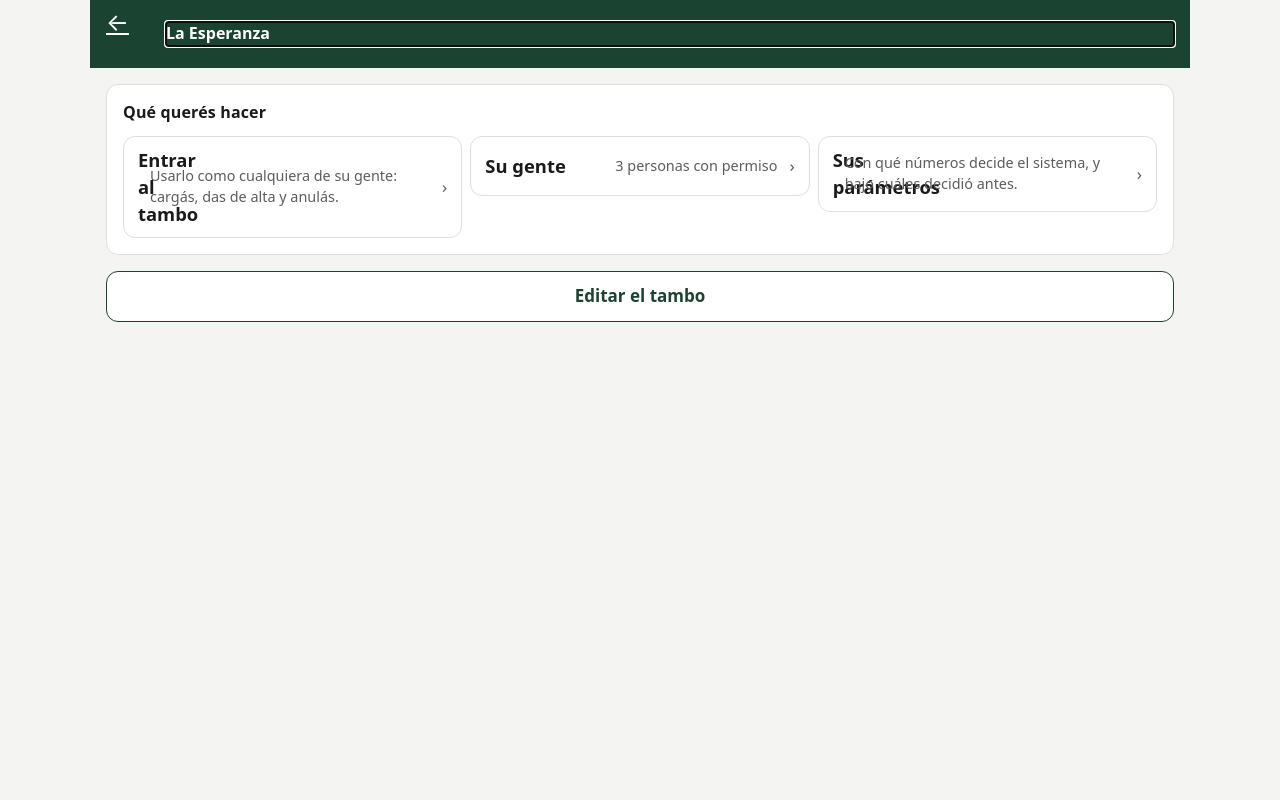
Test: el admin, que no tiene permisos y puede todo › ve las puertas de carga aunque su lista de permisos venga vacía
The image size is (1280, 800).
Step 1. Click the button named "Entrar al tambo" → {"x": 293, "y": 187}, box [123,136,462,238]
(page scrolled)
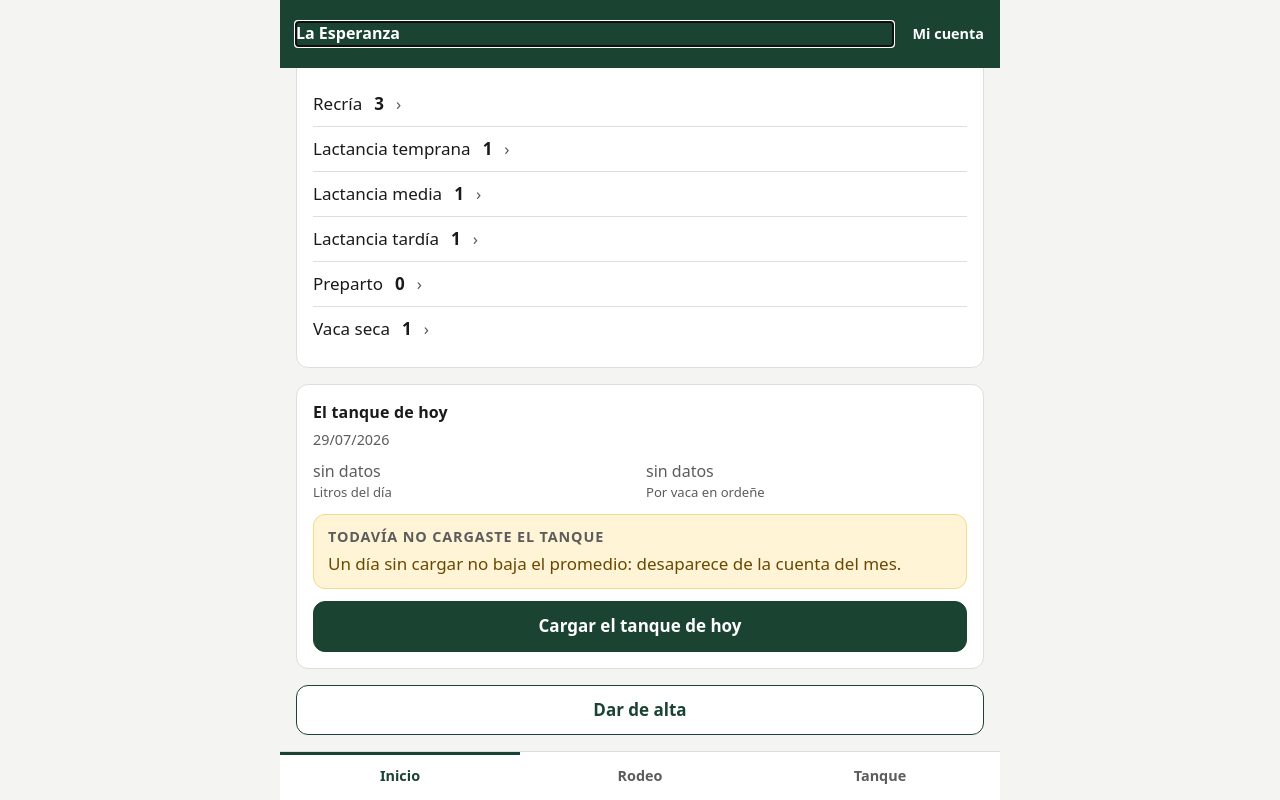
Check: the text "Preñez del rodeo" is shown, box [313,15,434,34]
Check: the link "Dar de alta" is shown, box [296,685,984,735]
Check: the link "Cargar el tanque de hoy" is shown, box [313,601,967,652]
